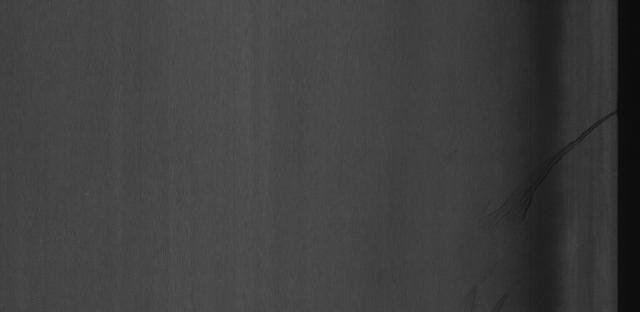water_spot: (472, 93, 615, 245)
